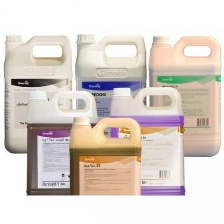cleaning_solution: (105, 84, 187, 213), (146, 33, 224, 159), (24, 87, 101, 209), (73, 33, 147, 156), (1, 31, 74, 155), (67, 114, 142, 224)
